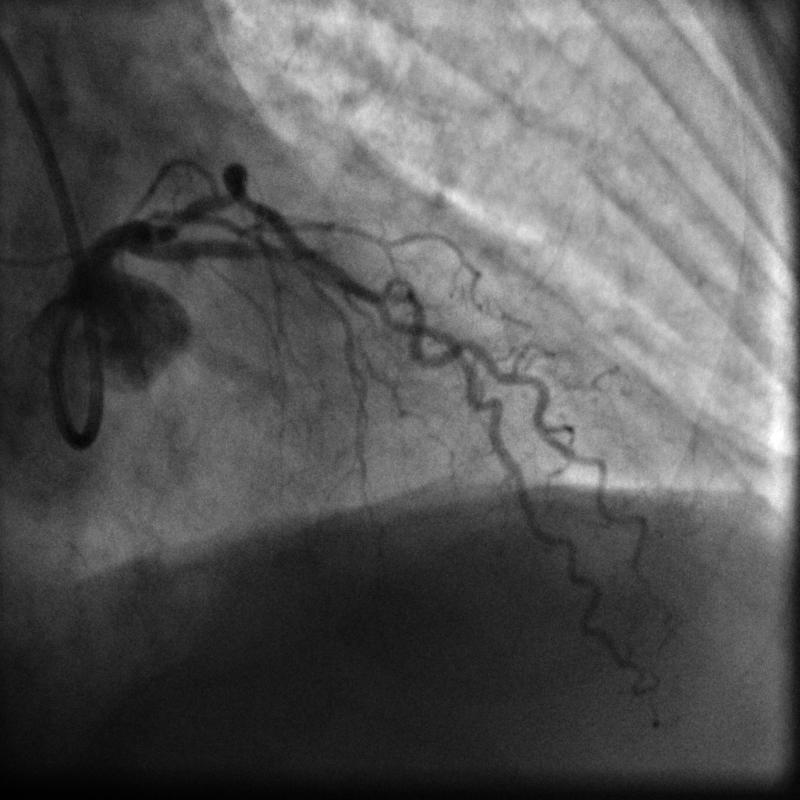Stenosis: (274, 241, 321, 287)
